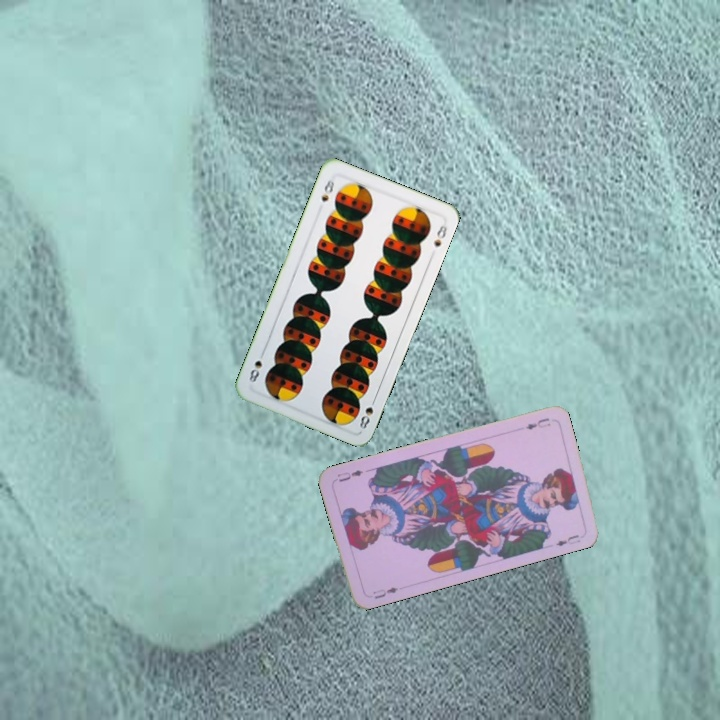EU: (369, 583, 400, 601), (522, 414, 553, 432)
S8: (355, 393, 379, 431), (317, 175, 337, 204)
